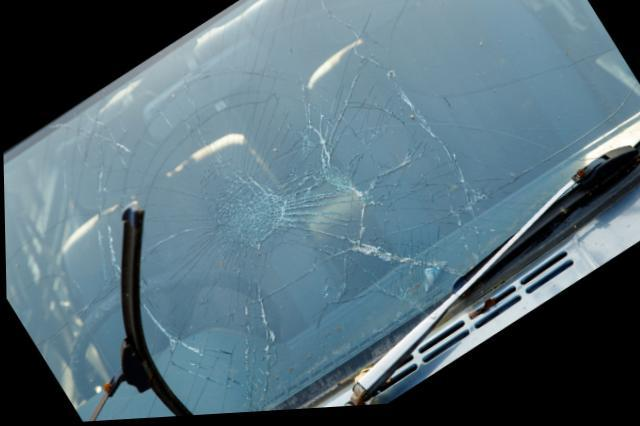glass shatter: (3, 0, 640, 423)
